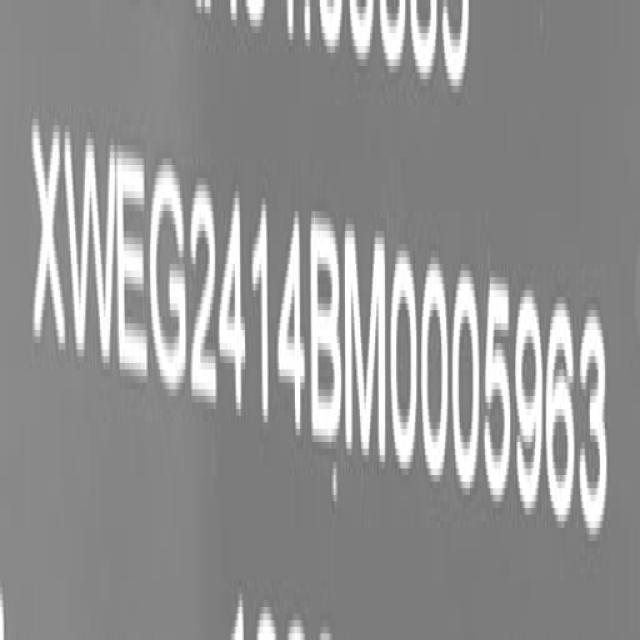0: (386, 244, 421, 482), (418, 244, 451, 489), (449, 257, 481, 496)
1: (252, 184, 273, 438)
2: (185, 161, 224, 430)
3: (579, 303, 610, 552)
4: (218, 168, 250, 440), (274, 193, 307, 435)
5: (480, 274, 515, 503)
6: (545, 288, 579, 533)
9: (512, 281, 546, 535)
B: (310, 203, 345, 457)
E: (115, 130, 154, 410)
G: (148, 134, 190, 403)
M: (340, 222, 390, 472)
W: (65, 122, 116, 396)
X: (30, 105, 70, 369)
